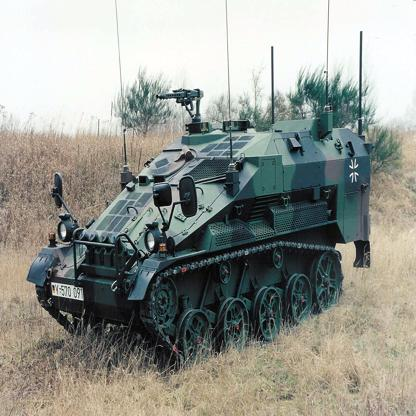Tank: (24, 87, 380, 363)
